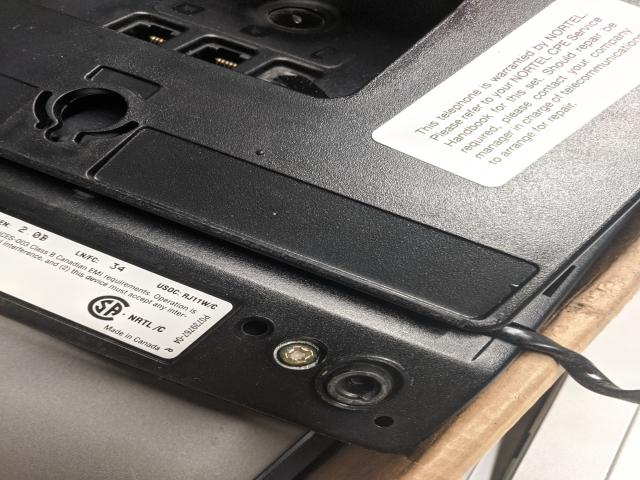CRS: (278, 343, 318, 367)
